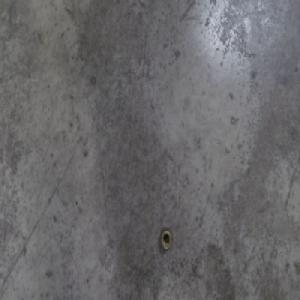Nut: (159, 225, 172, 250)
